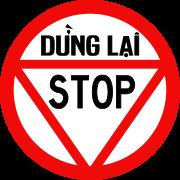Stop: (11, 10, 166, 166)
